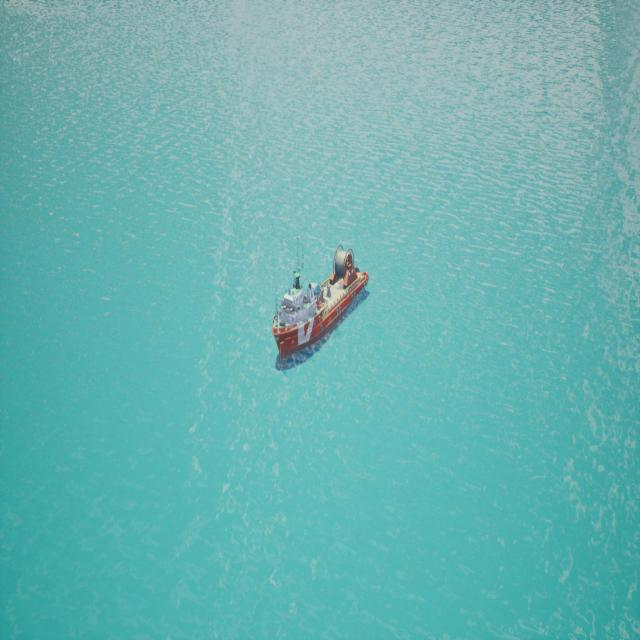tug boat: (272, 251, 370, 373)
